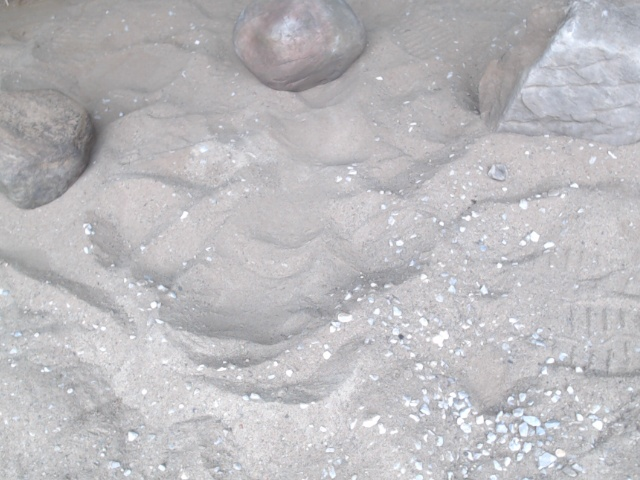rock: (477, 1, 640, 147), (231, 1, 366, 93), (1, 87, 95, 209)
